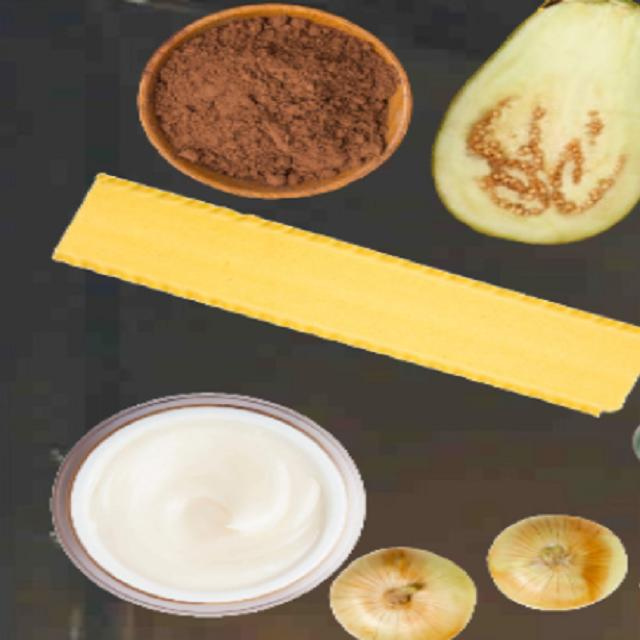Cocoa: (151, 12, 397, 189)
